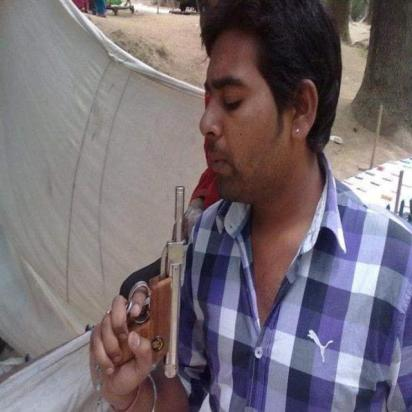Gun: (94, 184, 190, 382)
